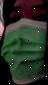with_mask: (1, 2, 48, 85)
